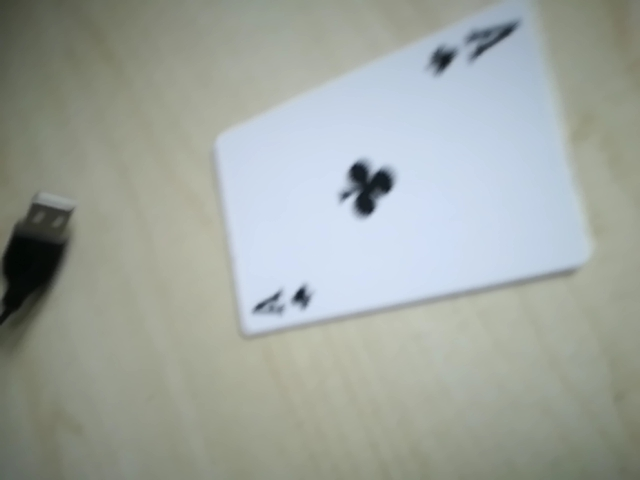mh a: (417, 10, 527, 87), (245, 269, 322, 334)
